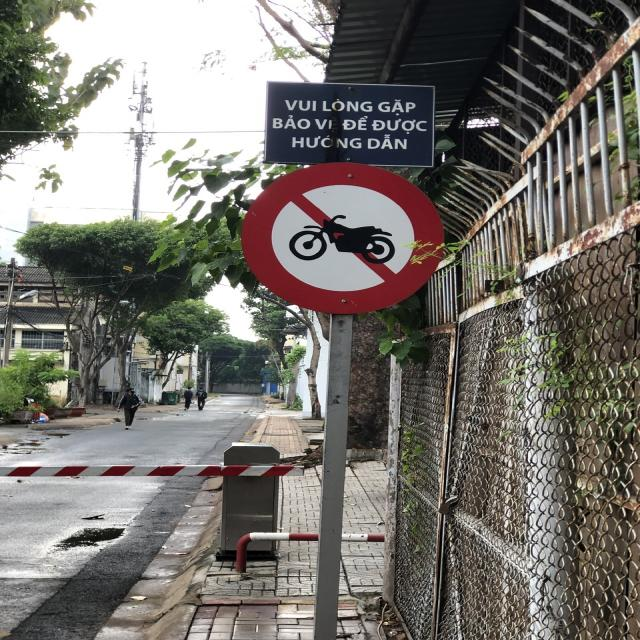Bien bao cam xe may: (233, 158, 462, 321)
